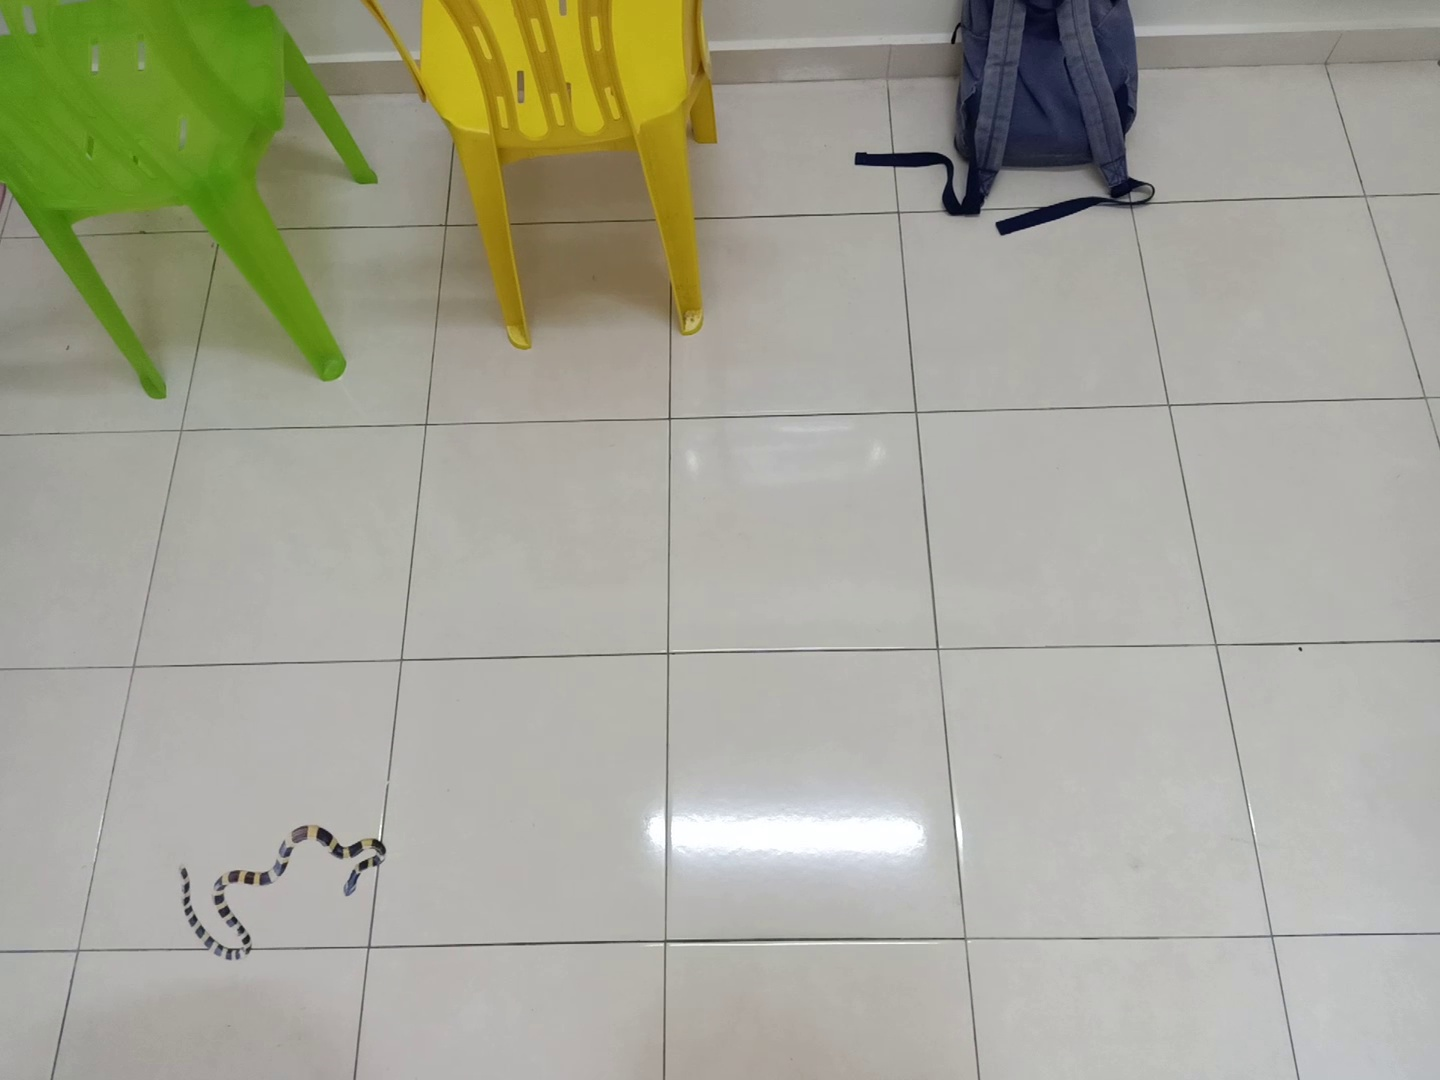snake: (171, 817, 396, 963)
